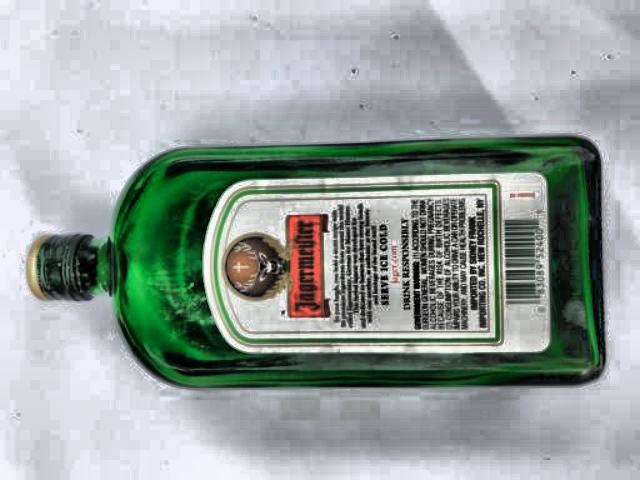Bottles: (0, 118, 617, 399)
